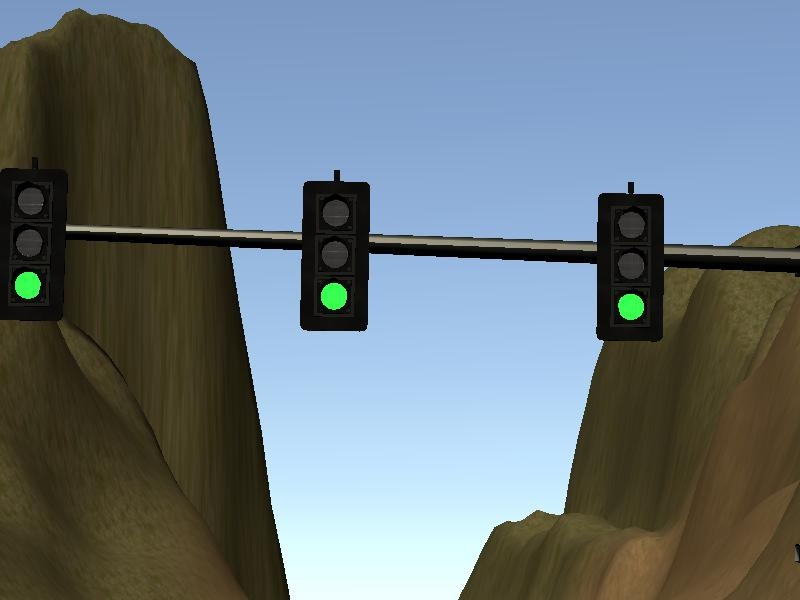green: (591, 182, 674, 353), (296, 170, 370, 344), (1, 161, 75, 327)
